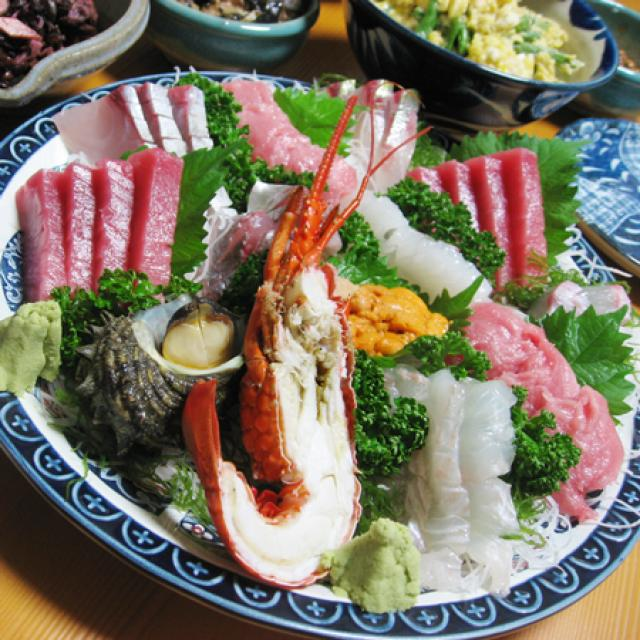刺身生食: (0, 41, 640, 634)
